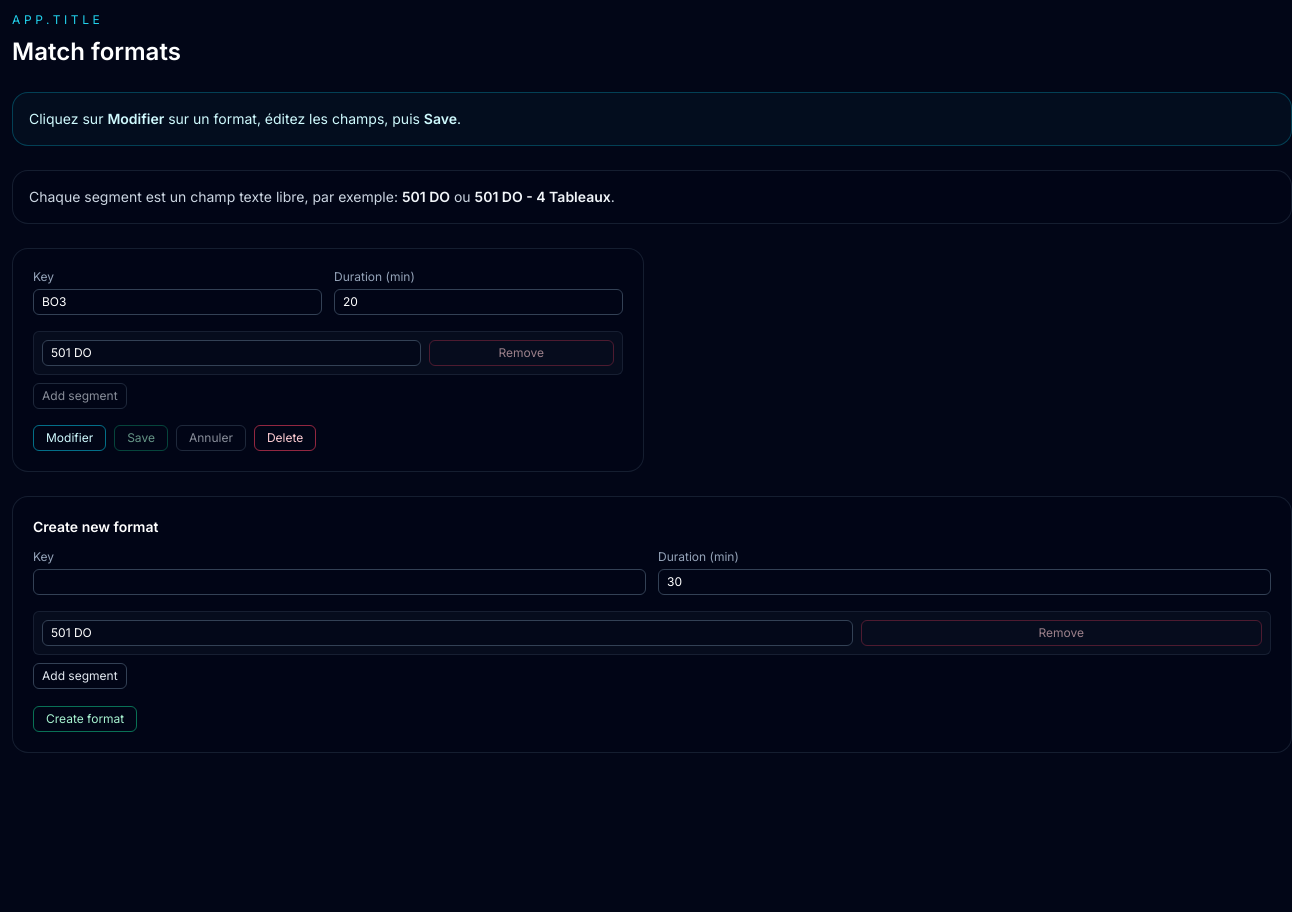
MatchFormatsView › shows delete fallback error when delete fails with non-Error value
Expected: the 1st field showing "BO3" is shown, [33,289,322,315]
Click the button "Delete". click: click(285, 438)
box: [254,425,316,451]
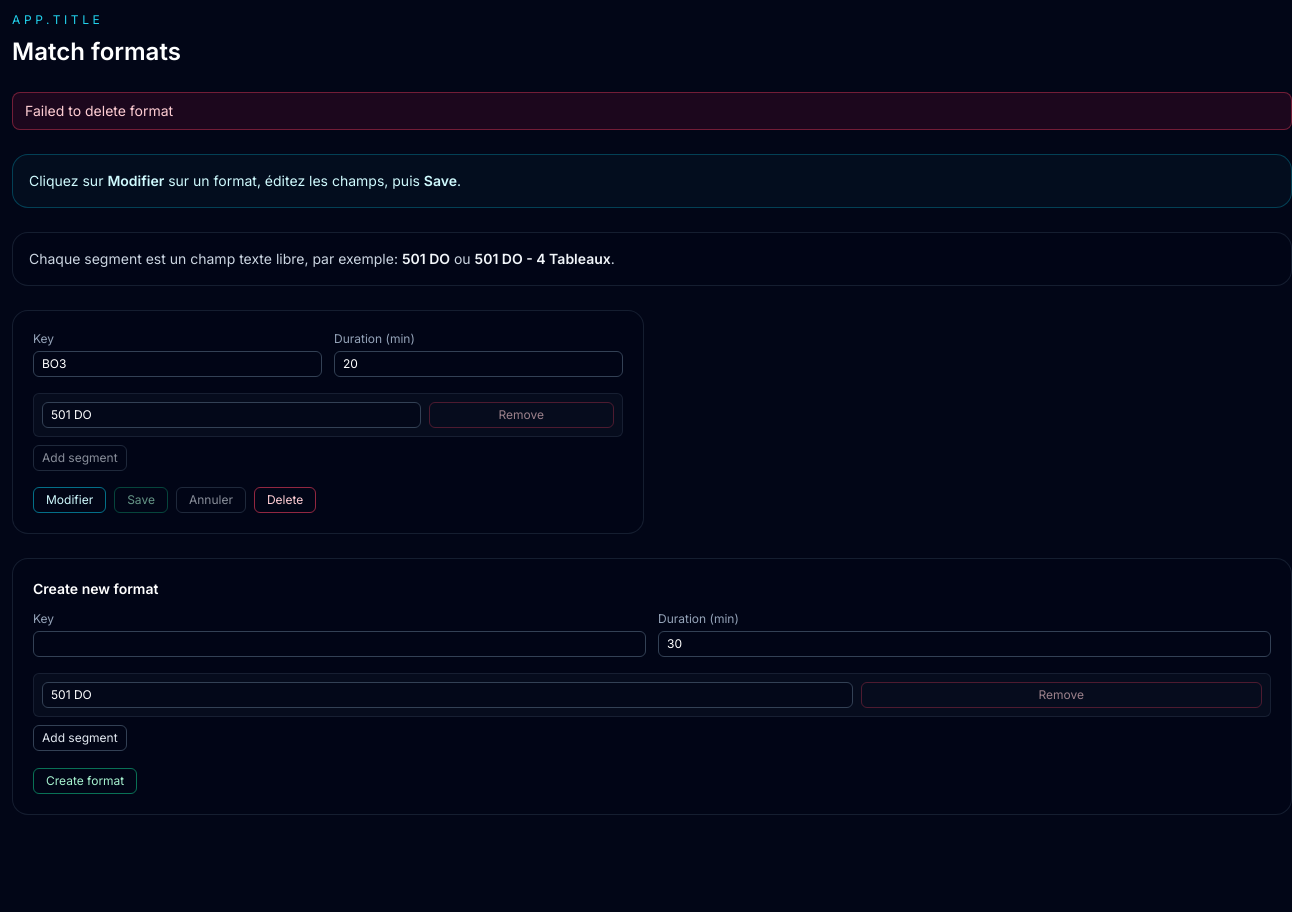
Now the text "Failed to delete format" is shown, box [12,92,1291,130]
